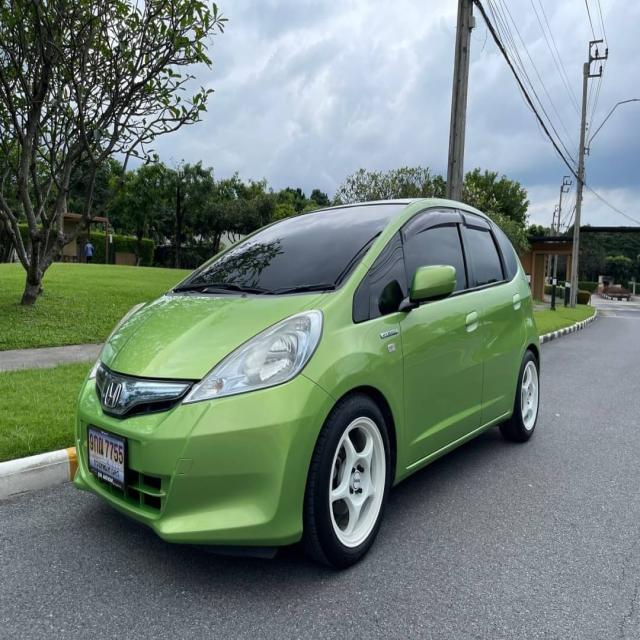license_plate: (86, 424, 131, 494)
